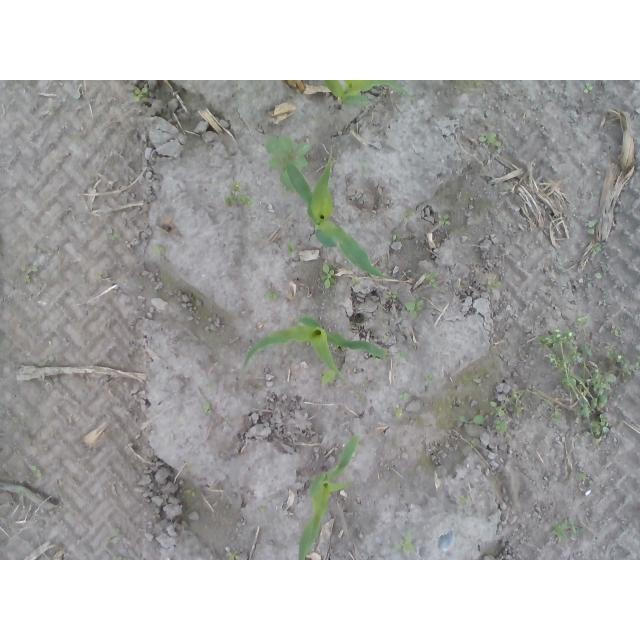Maize: (286, 162, 389, 279), (239, 316, 390, 380), (298, 433, 362, 560), (324, 80, 410, 109)
Weeds: (538, 326, 640, 437), (263, 134, 313, 187), (458, 401, 508, 434), (224, 179, 256, 207), (551, 518, 585, 543), (392, 531, 417, 553), (404, 296, 425, 321), (478, 132, 503, 152), (510, 388, 526, 417), (320, 263, 337, 290), (22, 265, 39, 288), (132, 83, 149, 102), (106, 225, 123, 241), (592, 241, 609, 256), (321, 370, 337, 385), (424, 272, 438, 289), (574, 313, 591, 327), (31, 462, 45, 479), (15, 484, 33, 497), (401, 209, 416, 224), (150, 243, 166, 257), (587, 220, 598, 239), (264, 290, 280, 303), (384, 290, 401, 302), (286, 243, 298, 258), (395, 350, 410, 362), (201, 400, 211, 417), (112, 527, 121, 545), (225, 550, 240, 560), (437, 214, 449, 226), (486, 279, 498, 290), (457, 496, 471, 505), (185, 487, 196, 498), (578, 471, 590, 481), (416, 464, 433, 471), (351, 278, 361, 289), (583, 83, 593, 94), (399, 390, 409, 400), (595, 270, 605, 280), (395, 408, 406, 417), (260, 504, 269, 513), (391, 233, 401, 241), (424, 373, 433, 381)
